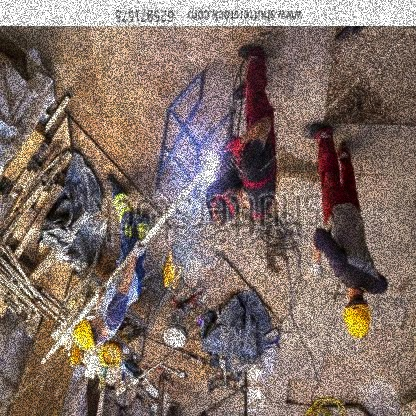yellow: (342, 303, 375, 343), (75, 321, 98, 354)
